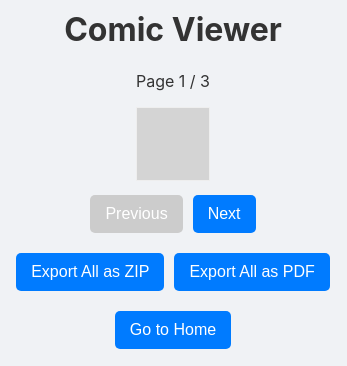
Test: ViewerPage › should navigate to next page when Next button is clicked
This screenshot has width=347, height=366.
Check: the text "Page 1 / 3" is shown, box [136,71,210,91]
Step 1. Click the button "Next" → click(224, 214), box [193,195,256,233]
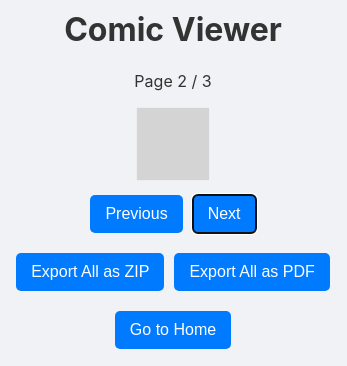
Check: the text "Page 2 / 3" is shown, box [134,71,212,91]
